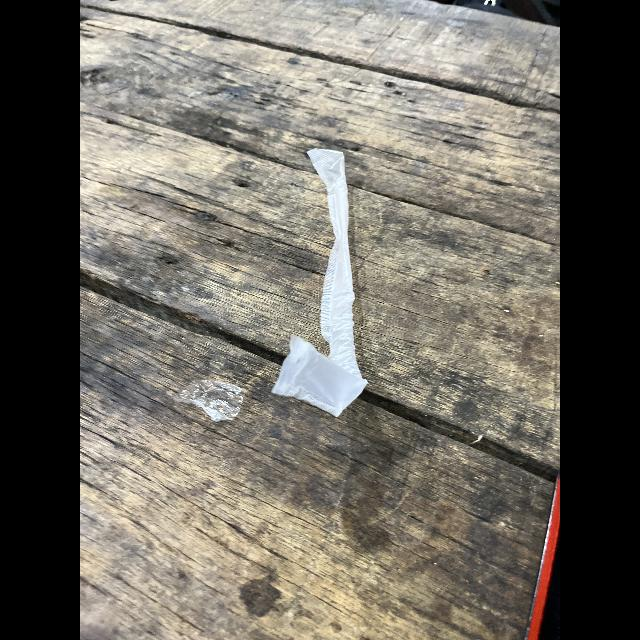scrap_plastic: (278, 144, 364, 422), (174, 366, 246, 432)
